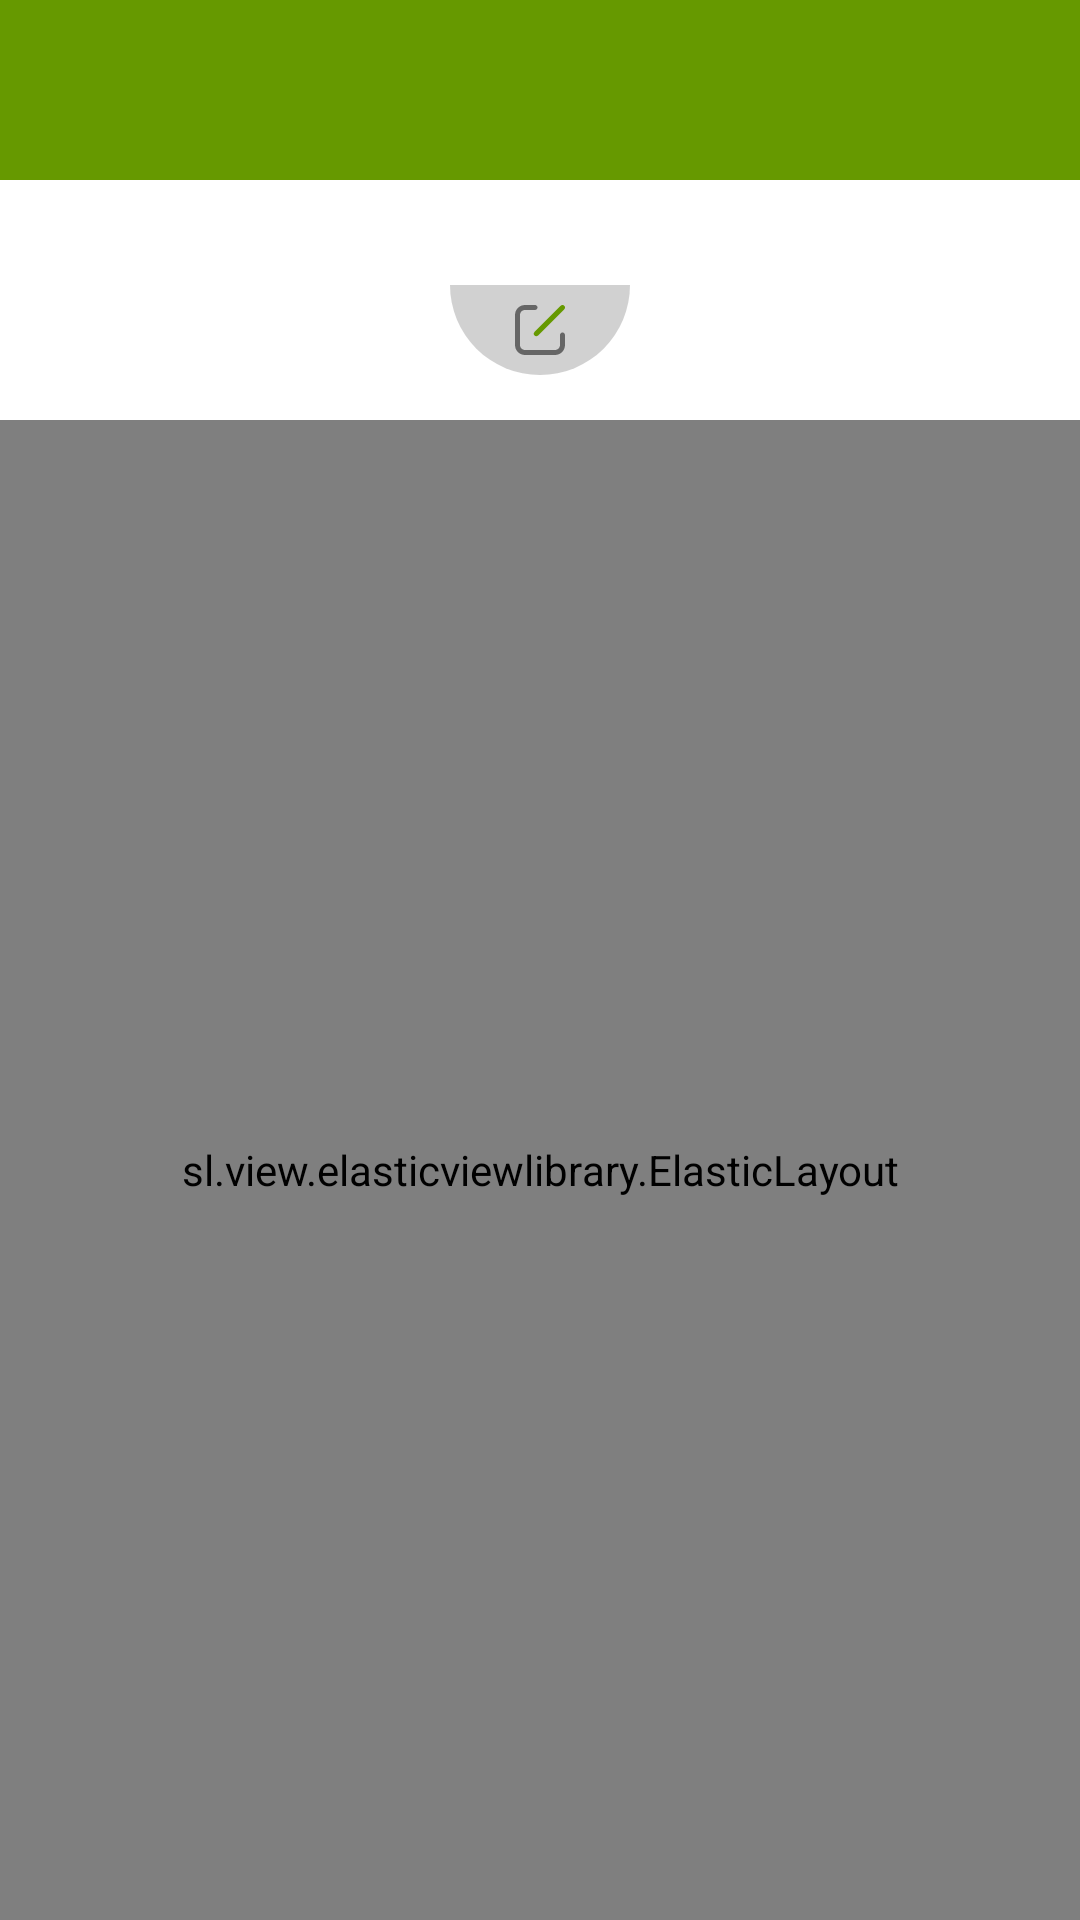

Icon click points for this 1080 × 1920 phone screenshot, format point (x, y):
edit: point (540, 330)
